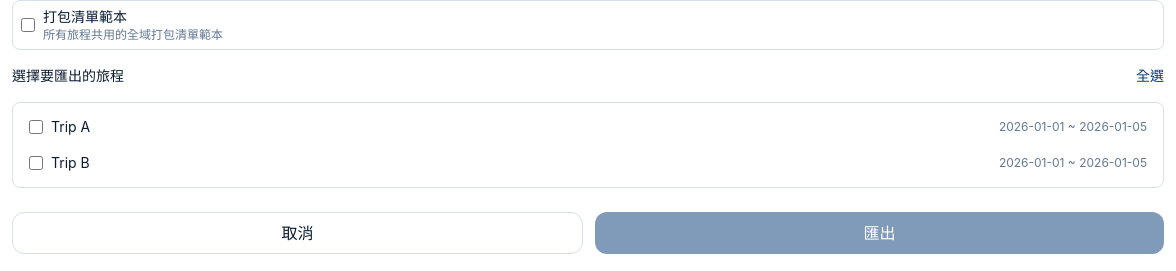
Test: ExportTab › selects and deselects every trip via the select-all toggle
This screenshot has width=1176, height=271.
What coordinates should you click on to do the following:
click the button "全選"
I would click on:
 (1150, 76)
Its box is top-left (1136, 66), bottom-right (1164, 86).
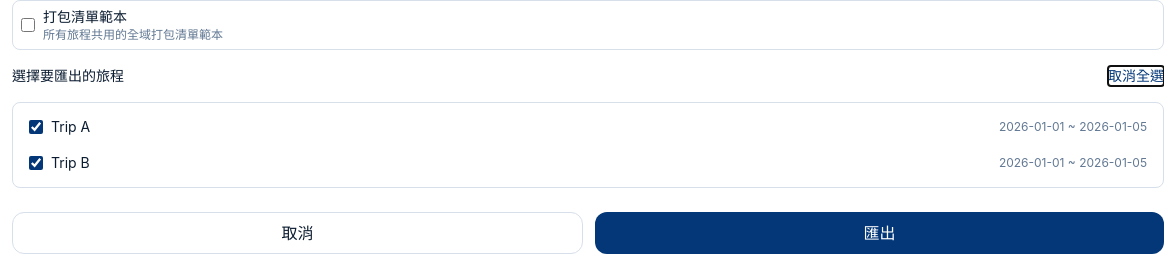
Expected: the checkbox labelled "Trip A 2026-01-01 ~ 2026-01-05" is checked, top-left (29, 120), bottom-right (43, 134)
Expected: the checkbox labelled "Trip B 2026-01-01 ~ 2026-01-05" is checked, top-left (29, 156), bottom-right (43, 170)
Expected: the button "匯出" is enabled, top-left (595, 212), bottom-right (1164, 254)
What coordinates should you click on to do the following:
click the button "取消全選"
I would click on:
 (1136, 76)
Its box is top-left (1108, 66), bottom-right (1164, 86).
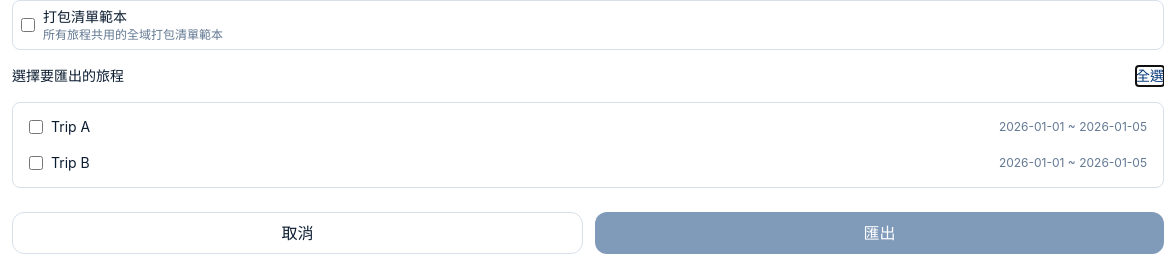
Expected: the checkbox labelled "Trip A 2026-01-01 ~ 2026-01-05" is not checked, top-left (29, 120), bottom-right (43, 134)
Expected: the checkbox labelled "Trip B 2026-01-01 ~ 2026-01-05" is not checked, top-left (29, 156), bottom-right (43, 170)
Expected: the button "匯出" is disabled, top-left (595, 212), bottom-right (1164, 254)
